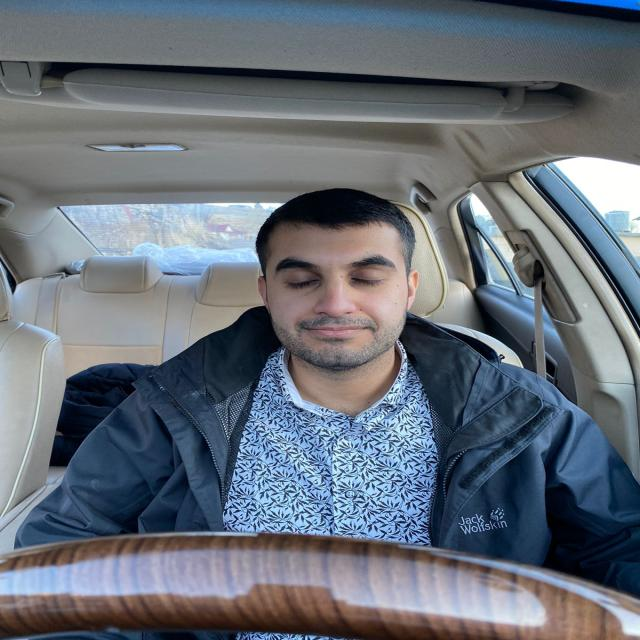drowsy: (255, 204, 416, 367)
